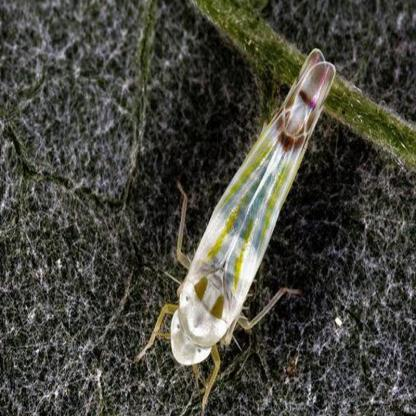green-leafhopper: (132, 47, 336, 414)
